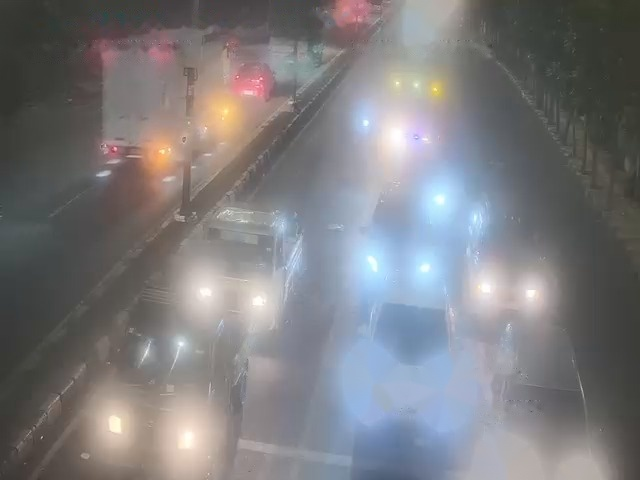Mobil: (493, 327, 594, 480), (200, 195, 301, 333), (156, 316, 248, 452), (370, 273, 448, 417), (473, 204, 542, 319), (364, 180, 425, 274)
Truk: (103, 38, 168, 163), (389, 70, 446, 154)
